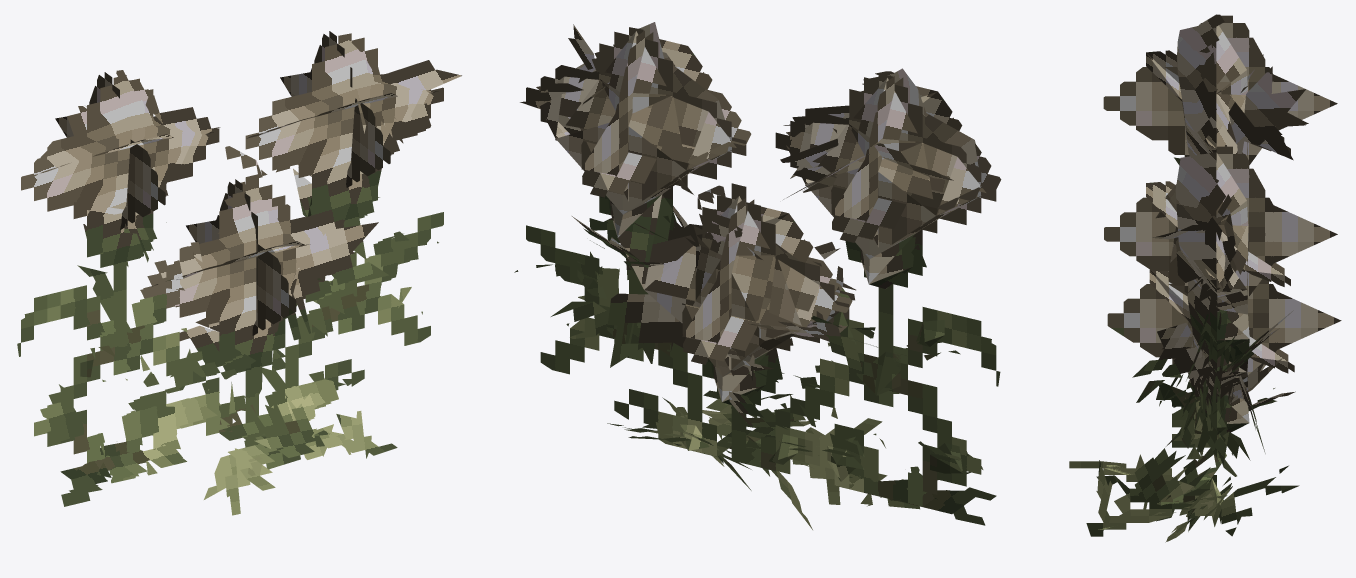
Rendered from flower_907_cut_far.glb.
3 renders of one model, left to right at view 1: azimuth 30°, elevation 25°; view 2: azimuth 150°, elevation 25°; view 3: azimuth 270°, elevation 25°, orthographic. The views are drawn at different scales.
Parts seen in each view (by area): view 1: flower_907_cut_lod1; view 2: flower_907_cut_lod1; view 3: flower_907_cut_lod1.
Part boxes in pixels (<box>): flower_907_cut_lod1: <box>17,31,461,515</box>; flower_907_cut_lod1: <box>514,22,1001,529</box>; flower_907_cut_lod1: <box>1069,14,1341,542</box>.
Bounding box in the file's own units: 0.7358 × 0.6965 × 0.3515.
1 material, 1 textured.
